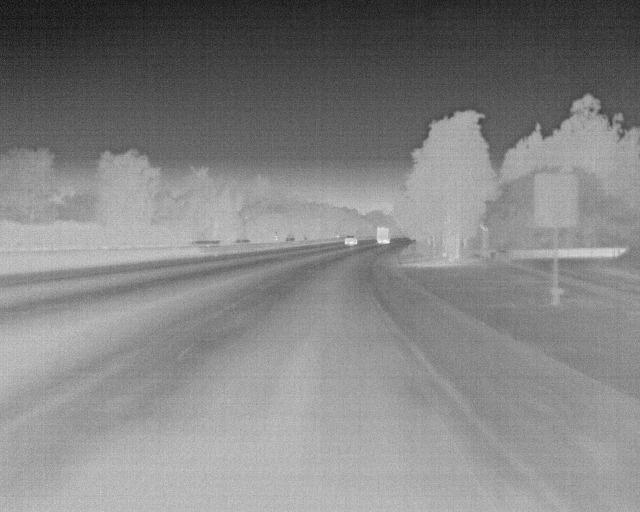car: (344, 233, 361, 249)
